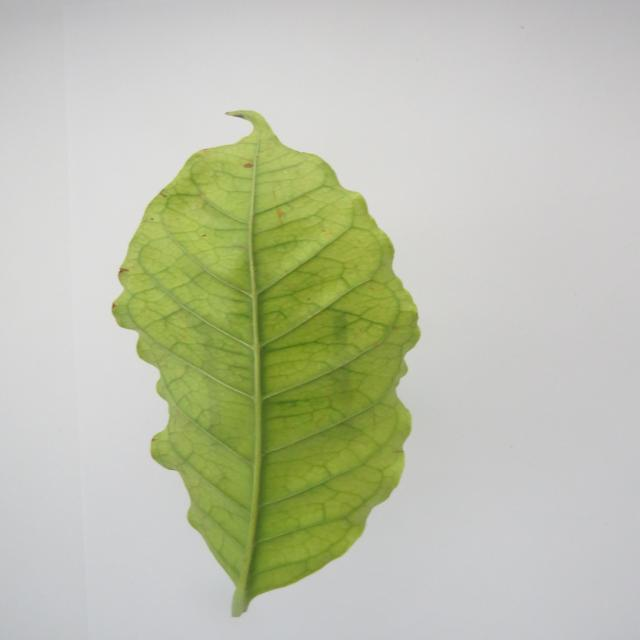DeficienciaNutricional-Calcio: (113, 111, 420, 616)
